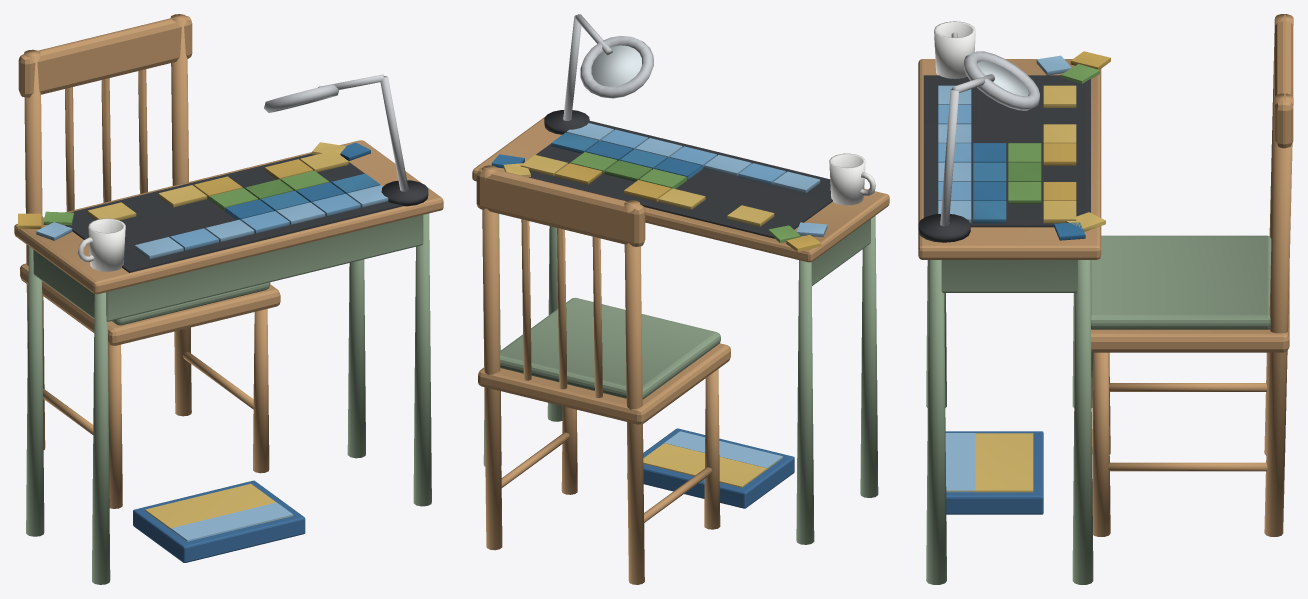
File: puzzleTable.glb
3 views of the same model, side by side, from view 1: azimuth 30°, elevation 25°; view 2: azimuth 150°, elevation 25°; view 3: azimuth 270°, elevation 25° (orthographic). The views are drawn at different scales.
Parts seen in each view (by area): view 1: body; view 2: body; view 3: body.
Part boxes in pixels (left/top/right/bottom): body: left=14, top=14, right=443, bottom=584; body: left=472, top=14, right=889, bottom=584; body: left=918, top=14, right=1293, bottom=584.
Size of the model in its own units: 0.8667 by 1.01 by 0.718.
